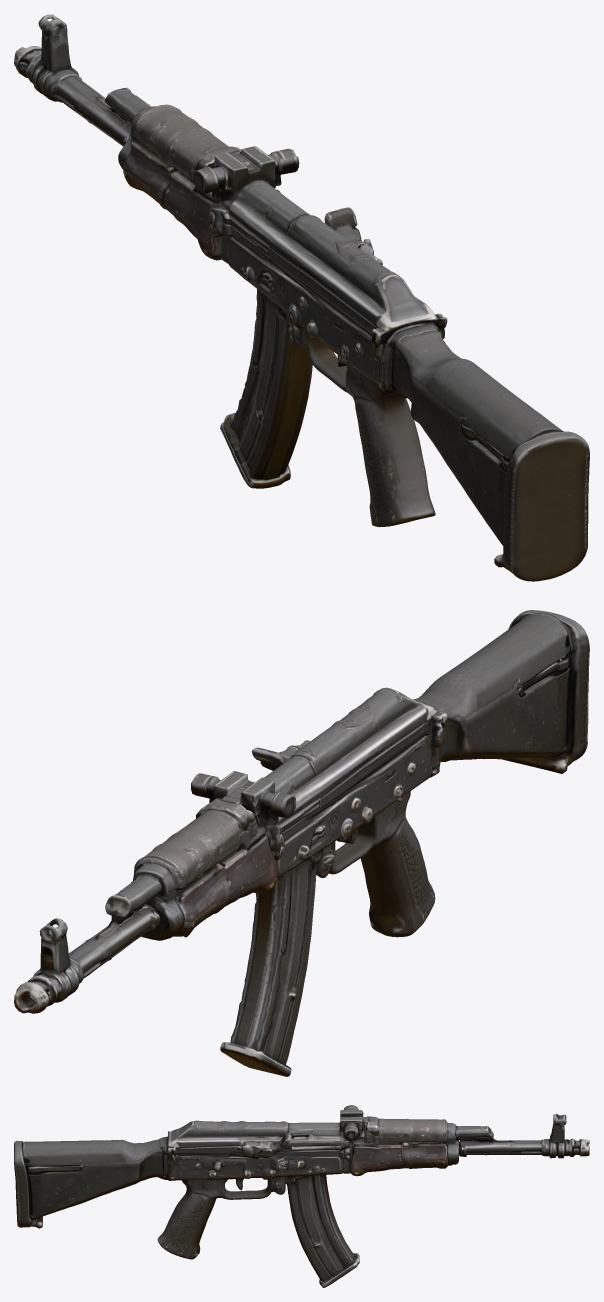
3 views of the same model, one above another, from view 1: azimuth 30°, elevation 25°; view 2: azimuth 150°, elevation 25°; view 3: azimuth 270°, elevation 25° (orthographic). The views are drawn at different scales.
Visible parts, largest first — view 1: tripo_node_3098cad3-8794-4598-8f0f-eda666512c59; view 2: tripo_node_3098cad3-8794-4598-8f0f-eda666512c59; view 3: tripo_node_3098cad3-8794-4598-8f0f-eda666512c59.
Boxes of the visible parts, box(x1,y1,x2,y2) form: tripo_node_3098cad3-8794-4598-8f0f-eda666512c59: box(14, 14, 589, 581); tripo_node_3098cad3-8794-4598-8f0f-eda666512c59: box(14, 610, 589, 1076); tripo_node_3098cad3-8794-4598-8f0f-eda666512c59: box(14, 1105, 589, 1287).
Size of the model in its own units: 0.2463 by 0.75 by 2.31.
1 material, 1 textured.
